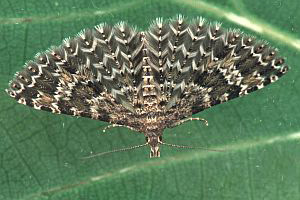Alucitidae: (3, 10, 292, 160)
moth: (5, 12, 294, 162)
